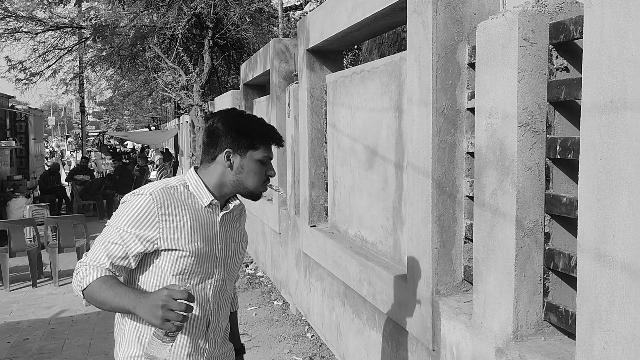spit: (122, 112, 316, 360)
